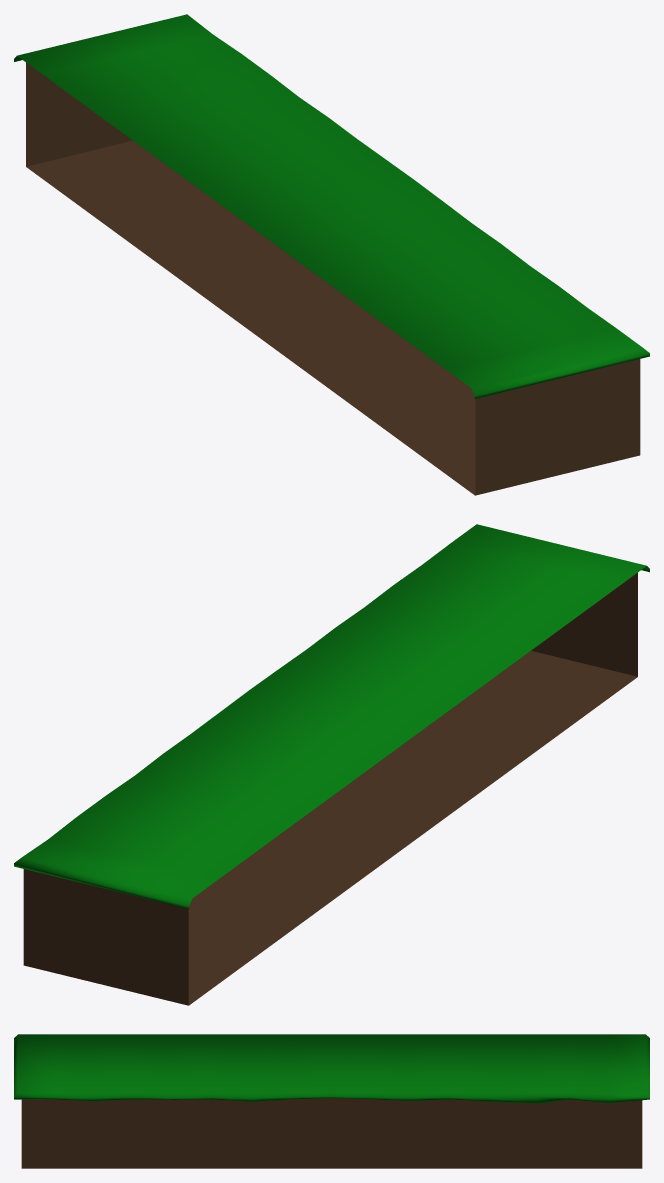
Rendered from ground.fbx.
The picture shows the model from 3 angles, top to bottom: view 1: azimuth 30°, elevation 25°; view 2: azimuth 150°, elevation 25°; view 3: azimuth 270°, elevation 25°; orthographic projection. The views are drawn at different scales.
Parts seen in each view (by area): view 1: Cube.001, Cube; view 2: Cube.001, Cube; view 3: Cube, Cube.001.
Part boxes in pixels (bbox=[...]): Cube.001: bbox=[14, 14, 649, 398]; Cube: bbox=[26, 62, 640, 495]; Cube.001: bbox=[14, 524, 649, 909]; Cube: bbox=[23, 573, 637, 1005]; Cube: bbox=[21, 1098, 642, 1168]; Cube.001: bbox=[14, 1034, 649, 1103].
Size of the model in its own units: 1310 by 791 by 5937.
